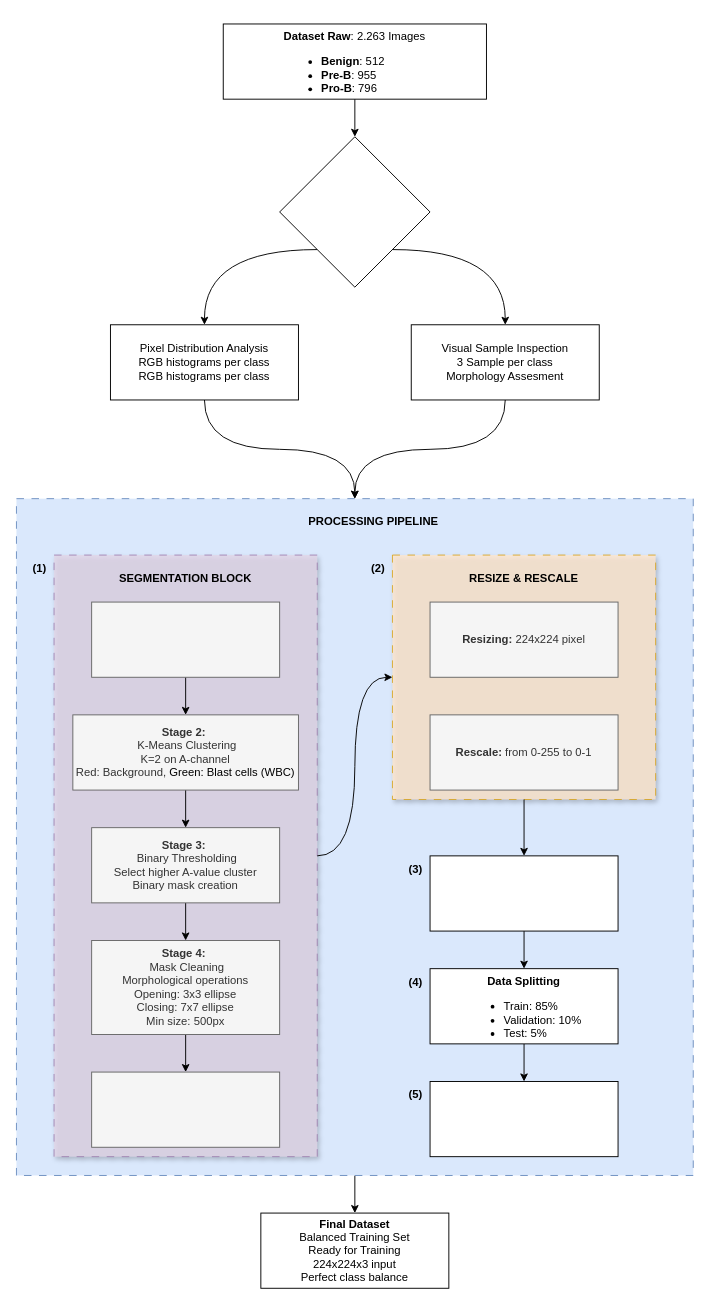
This 710x1305 diagram has some shape labels left out. The shapes that lost their labels are listed below. From the top down, each one's centre as x and y in pixels, then its label:
At point 354,211: "Data Exploration".
At point 185,639: "Stage 1: LAB Conversion BGR to LAB color space".
At point 523,893: "Ori-Mask Pairing Original + Masked image pairing".
At point 185,1109: "Stage 5: Imposed Mask Apply cleaned mask to original Extract blast cell regions".
At point 523,1119: "Data Augmentation Horizontal Flip Vertical Flip".
